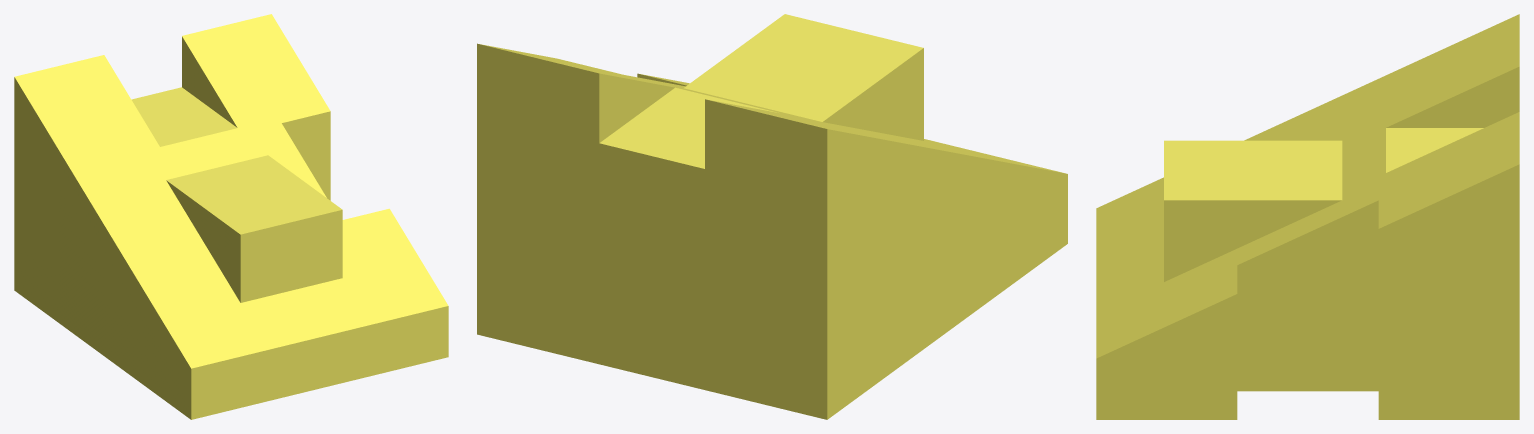
3 renders of one model, left to right at view 1: azimuth 30°, elevation 25°; view 2: azimuth 150°, elevation 25°; view 3: azimuth 270°, elevation 25°, orthographic. The views are drawn at different scales.
Visible parts, largest first — view 1: 938; view 2: 938; view 3: 938.
Part boxes in pixels (x1,y1,x2,y2): 938: [14, 14, 448, 419]; 938: [477, 14, 1067, 419]; 938: [1096, 14, 1519, 419].
Size of the model in its own units: 0.063 by 0.05 by 0.075.
